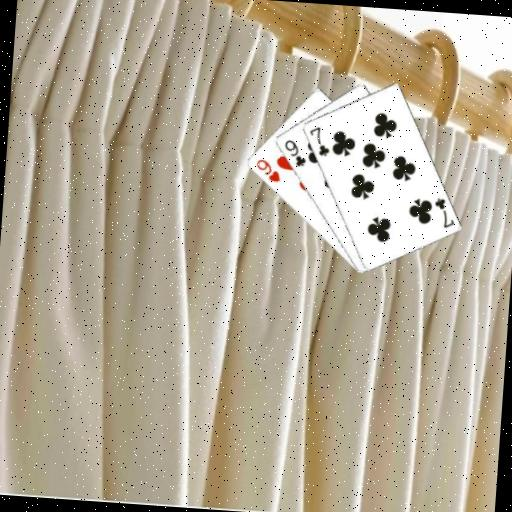7C: (430, 194, 458, 230), (304, 123, 332, 158)
9C: (280, 136, 309, 169)
9H: (252, 155, 283, 184)
